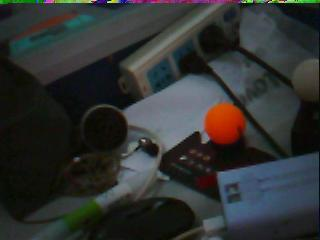oball: (206, 104, 245, 143)
